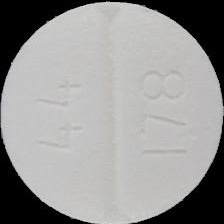21695-929: (0, 0, 224, 224)
